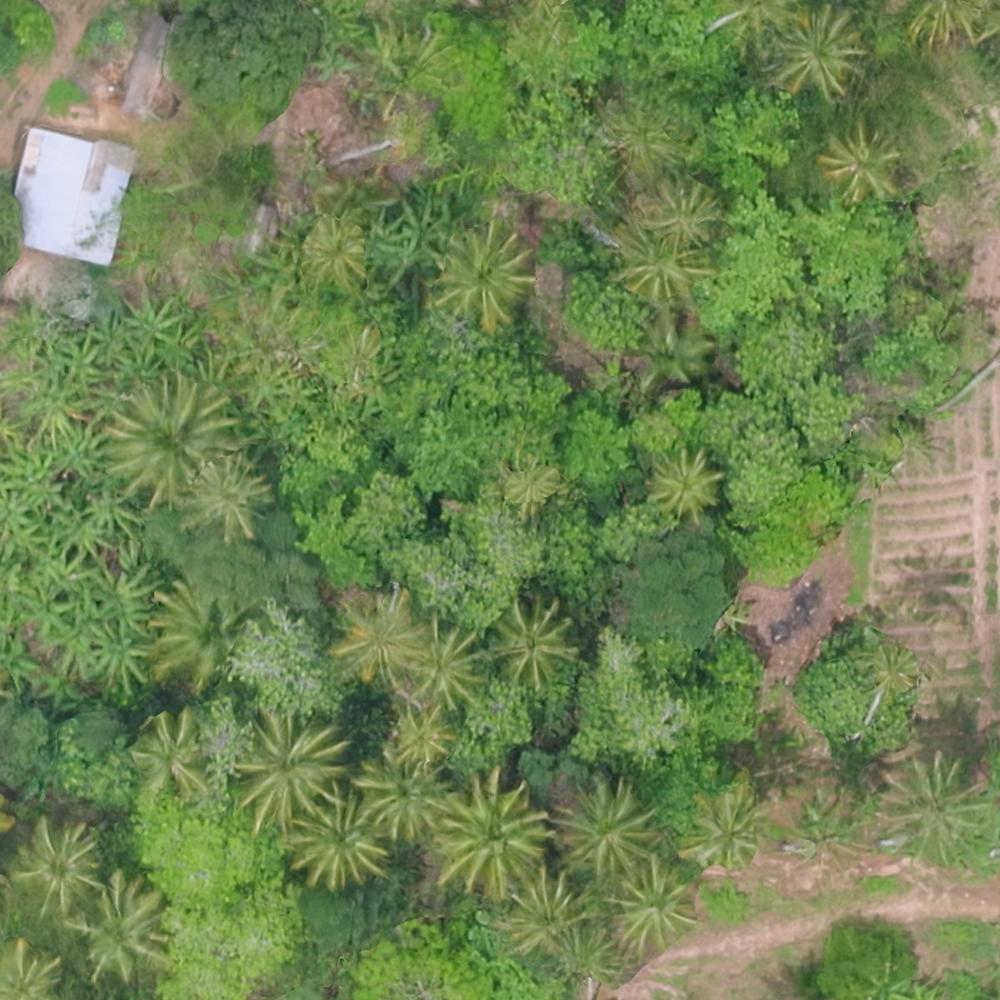Palm: (108, 385, 238, 493), (435, 779, 544, 893), (237, 710, 343, 825), (880, 760, 986, 864), (436, 223, 534, 328), (552, 780, 655, 875), (149, 577, 247, 676), (71, 877, 168, 975), (12, 819, 108, 914), (296, 786, 386, 882), (766, 6, 863, 95), (352, 752, 448, 839), (619, 221, 713, 308), (398, 619, 482, 714), (604, 862, 694, 948), (334, 591, 422, 675), (492, 601, 575, 690), (677, 789, 759, 871), (134, 712, 214, 796), (783, 797, 871, 873), (826, 127, 907, 207), (504, 877, 587, 955), (649, 443, 726, 523), (191, 460, 268, 533), (634, 315, 709, 386), (643, 177, 718, 246), (385, 708, 450, 767), (1, 946, 68, 998), (302, 224, 363, 279), (863, 643, 920, 697)
